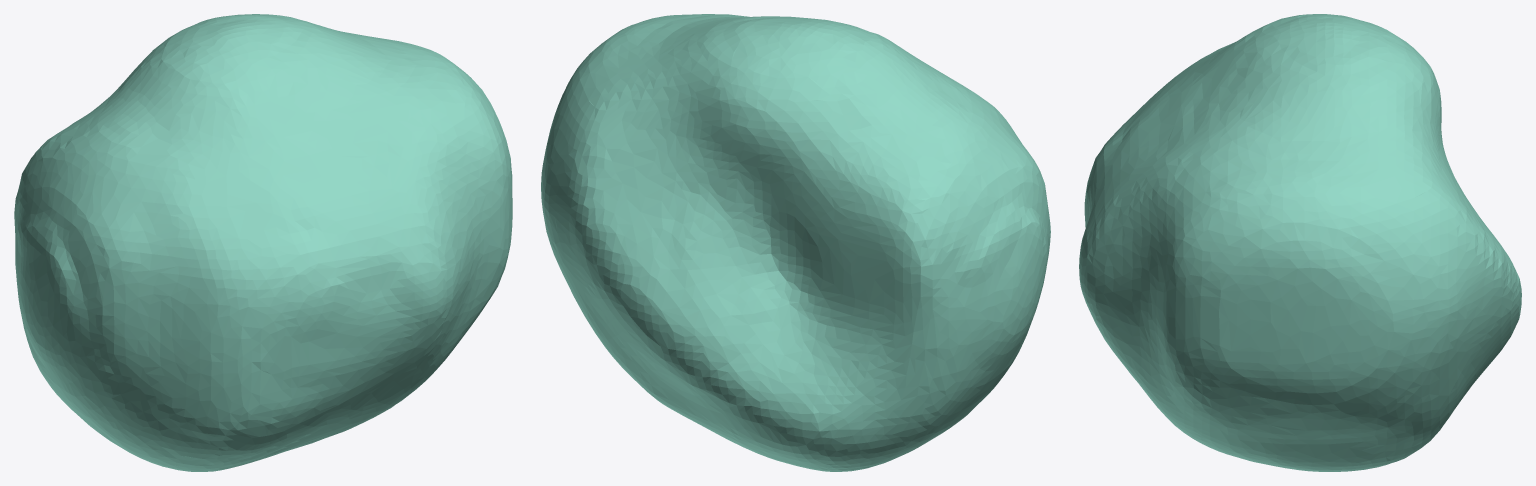
The model's file is ours.glb.
The picture shows the model from 3 angles, left to right: view 1: azimuth 30°, elevation 25°; view 2: azimuth 150°, elevation 25°; view 3: azimuth 270°, elevation 25°; orthographic projection. The views are drawn at different scales.
Visible parts, largest first — view 1: world; view 2: world; view 3: world.
Boxes of the visible parts, x1,y1,x2,y2 form: world: (14, 14, 512, 471); world: (541, 14, 1050, 471); world: (1079, 14, 1521, 471).
Size of the model in its own units: 0.9362 by 0.8373 by 0.7857.
